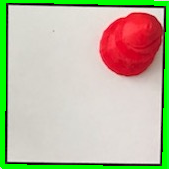Red Bishop: (97, 10, 164, 78)
